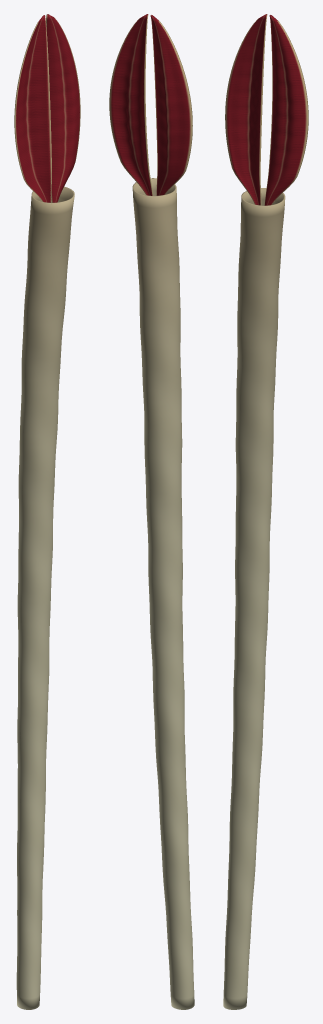
File: NEW689_Tubeworm_LOD0.fbx
3 renders of one model, left to right at view 1: azimuth 30°, elevation 25°; view 2: azimuth 150°, elevation 25°; view 3: azimuth 330°, elevation 25°, orthographic.
Parts seen in each view (by area): view 1: Protective_tube, Branchial_lamella_left, Branchial_lamella_right; view 2: Protective_tube, Branchial_lamella_right, Branchial_lamella_left; view 3: Protective_tube, Branchial_lamella_left, Branchial_lamella_right.
Part boxes in pixels (x1,y1,x2,y2): Protective_tube: (16, 186, 74, 1009); Branchial_lamella_left: (14, 15, 51, 202); Branchial_lamella_right: (46, 14, 80, 202); Protective_tube: (132, 178, 194, 1009); Branchial_lamella_right: (109, 14, 153, 195); Branchial_lamella_left: (150, 15, 192, 195); Protective_tube: (223, 188, 285, 1009); Branchial_lamella_left: (225, 14, 267, 205); Branchial_lamella_right: (264, 15, 308, 205).
Size of the model in its own units: 0.0888 by 1.13 by 0.0492.
Materials: 3 (3 with a texture image).
